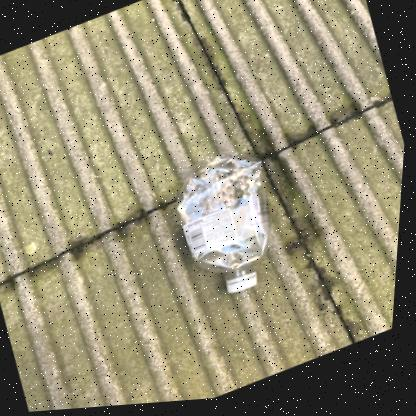Plastic: (181, 158, 274, 298)
